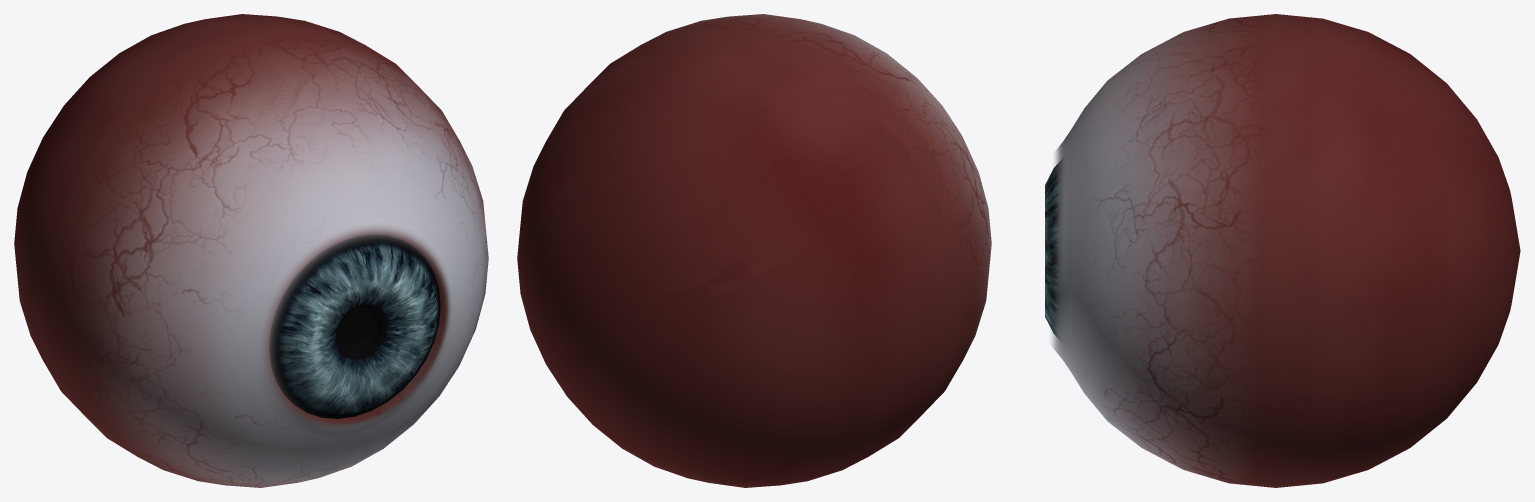
Rendered from eye_for_free.glb.
3 renders of one model, left to right at view 1: azimuth 30°, elevation 25°; view 2: azimuth 150°, elevation 25°; view 3: azimuth 270°, elevation 25°, orthographic.
Visible parts, largest first — view 1: Kugel, Scheibe; view 2: Kugel; view 3: Kugel, Scheibe.
Part boxes in pixels (bbox=[...]): Kugel: bbox=[14, 14, 488, 487]; Scheibe: bbox=[269, 234, 440, 418]; Kugel: bbox=[517, 14, 991, 487]; Kugel: bbox=[1050, 14, 1520, 487]; Scheibe: bbox=[1045, 159, 1062, 338].
Size of the model in its own units: 46.19 by 46.19 by 48.69.
Materials: 2 (2 with a texture image).
